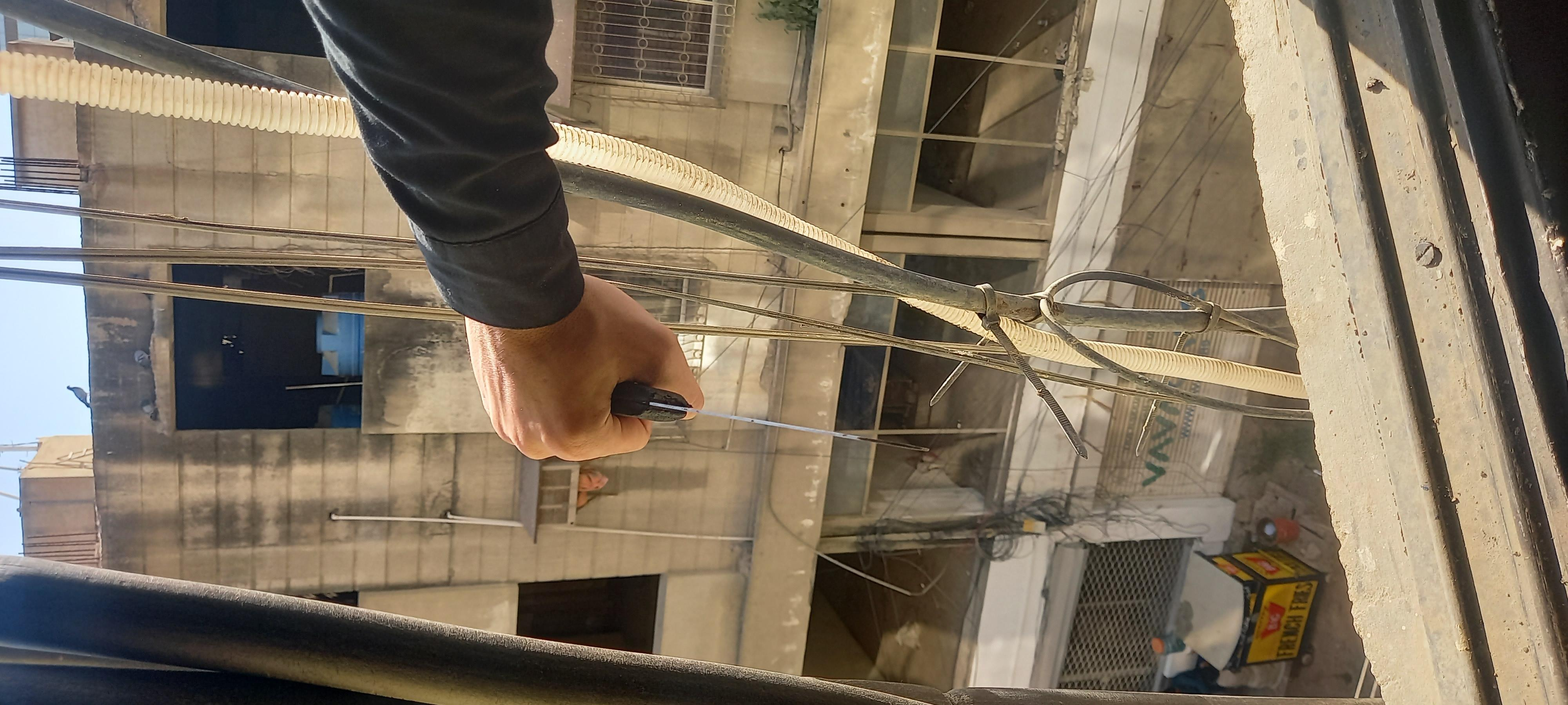knives: (496, 256, 784, 419)
